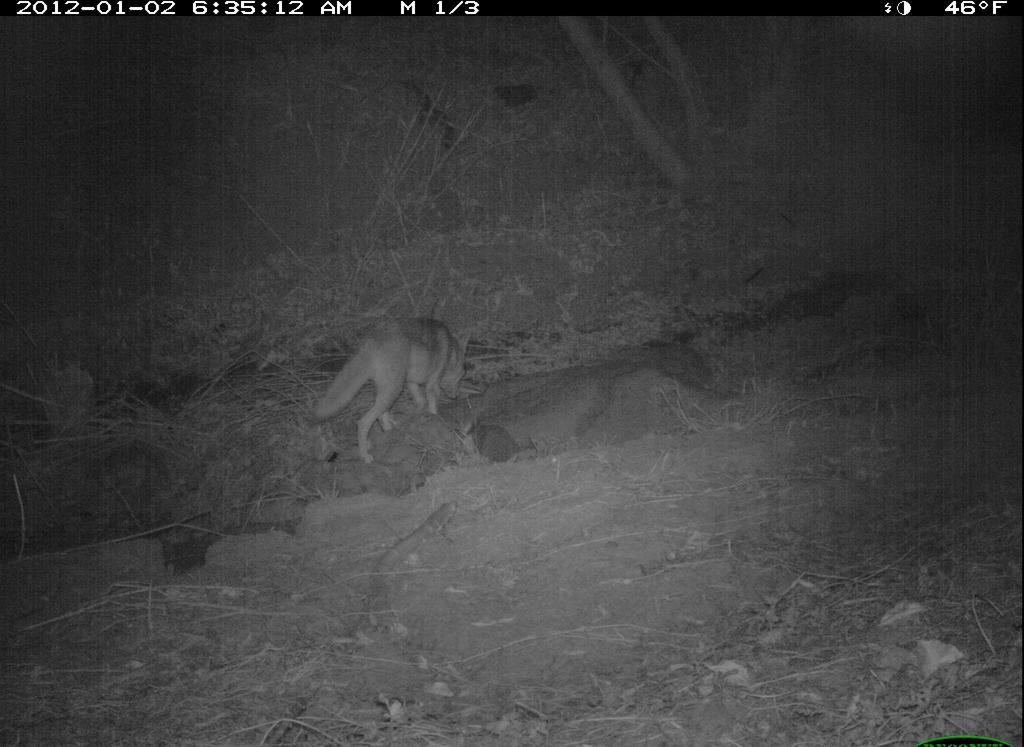coyote: (312, 301, 475, 469)
